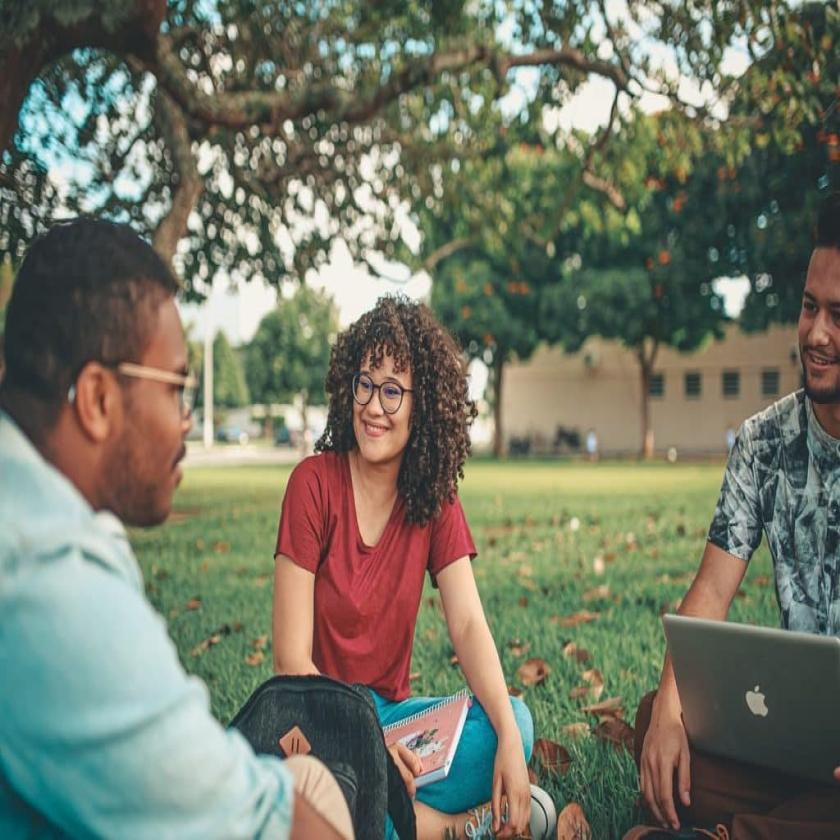Sin_casco: (5, 217, 199, 554), (345, 296, 439, 463)
